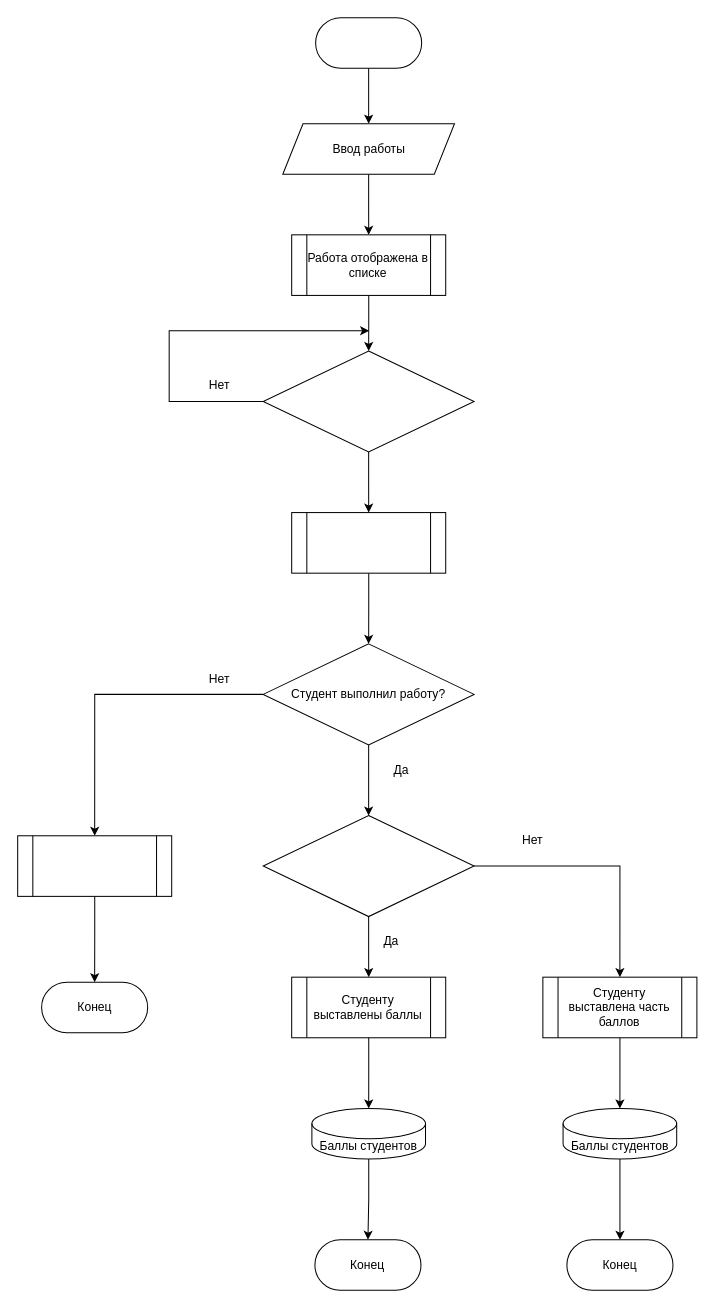
This 715x1308 diagram has some shape labels left out. The centre of each missing label's shape, as x and y in pixels:
"Инициирование работы" belongs at (368,542).
"Начало" belongs at (368,42).
"Студент записался на работу?" belongs at (368,401).
"Студент полностью выполнил работу?" belongs at (368,866).
"Студенту выставлено 0 баллов" belongs at (94,865).
